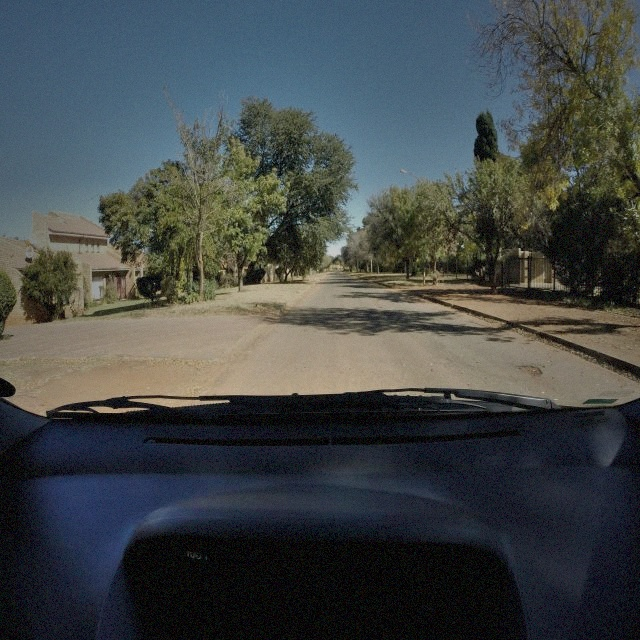pothole: (518, 364, 544, 380)
